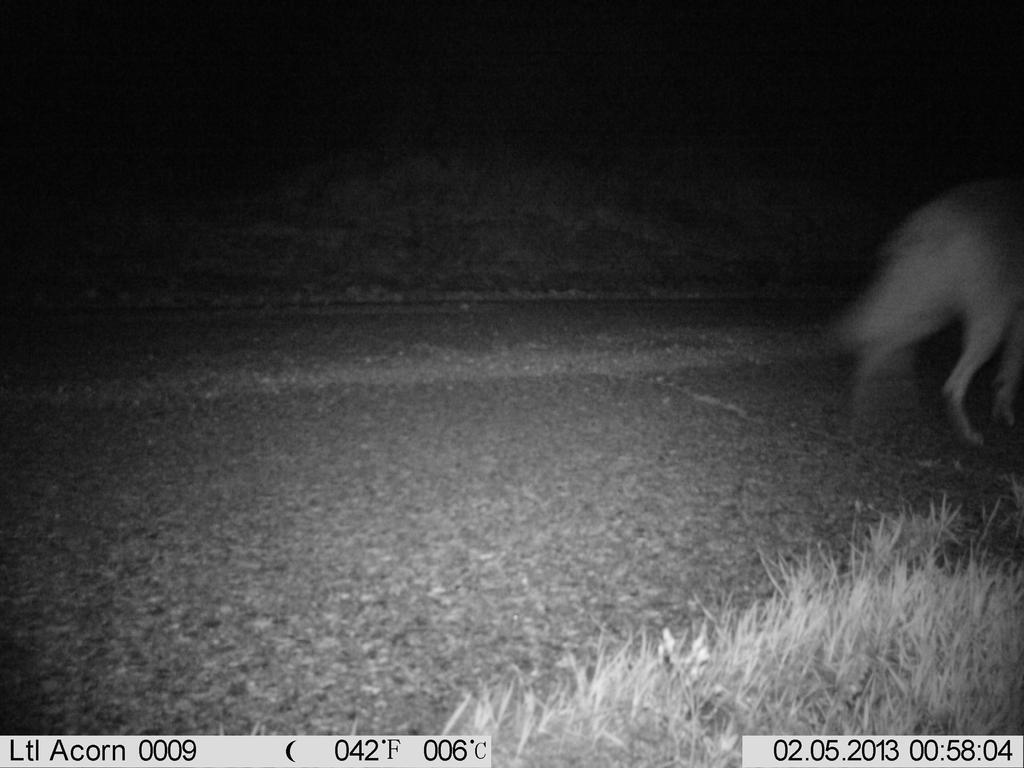coyote: (813, 146, 1019, 501)
